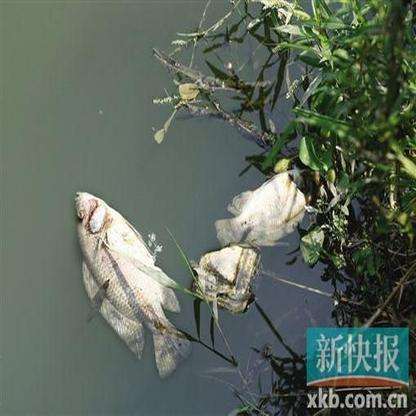deceased fish: (74, 190, 192, 379), (217, 161, 320, 248)
